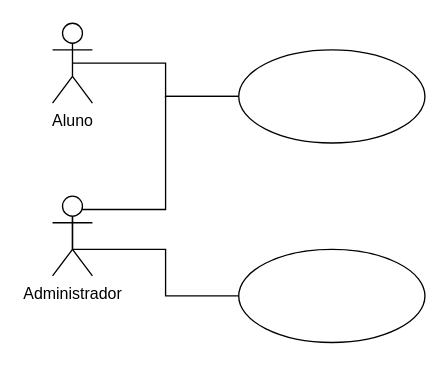
Some shapes in this 448 by 366 pixel diagram are drawn without their labels. Each missing label, with the centre of its shape:
Controlar a casa: (x=331, y=96)
Gerencia usuários: (x=331, y=295)
